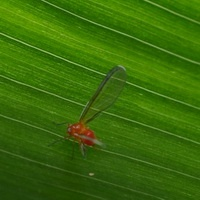insect: (67, 65, 125, 156)
